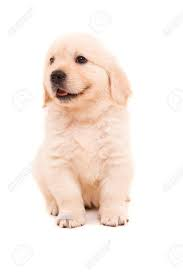Golden Retriever: (20, 18, 163, 241)
